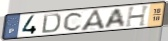4: (21, 14, 39, 36)
A: (80, 9, 108, 32), (104, 7, 127, 29)
C: (62, 11, 85, 32)
D: (40, 13, 62, 35)
H: (125, 5, 152, 28)
